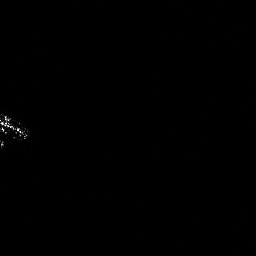ship: (1, 109, 32, 150)
